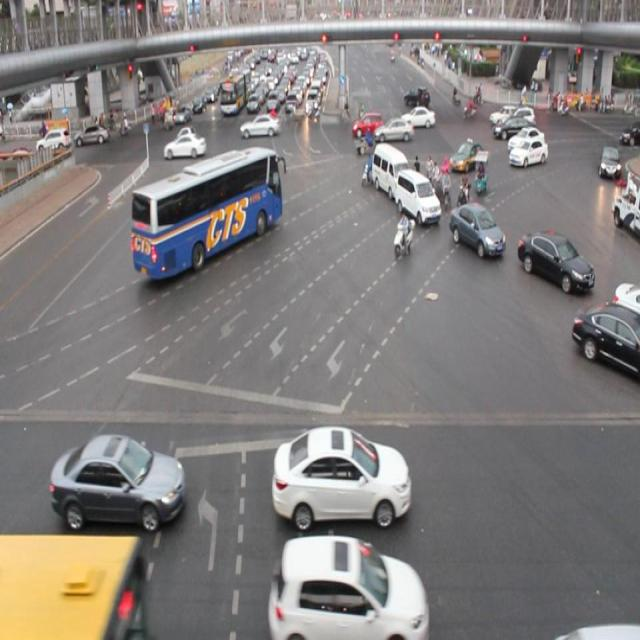car: (270, 532, 428, 640), (270, 426, 411, 527), (49, 430, 188, 529), (571, 297, 640, 387), (516, 227, 592, 296), (448, 200, 503, 261), (612, 278, 640, 322), (449, 134, 482, 169), (164, 132, 205, 160), (509, 141, 548, 168), (375, 119, 413, 142), (507, 126, 543, 149), (352, 112, 382, 136)
truck: (395, 170, 440, 223), (370, 141, 408, 198)
van: (130, 144, 284, 286), (0, 522, 147, 640)
